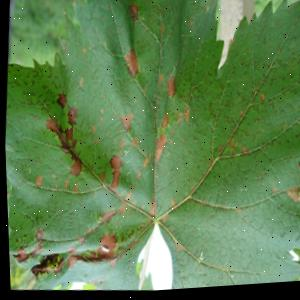Folha: (0, 0, 300, 300)
Fungo: (40, 92, 87, 180), (62, 232, 124, 274), (28, 249, 66, 281), (106, 151, 123, 201), (114, 108, 136, 137), (151, 134, 168, 170), (124, 50, 141, 82), (9, 246, 30, 264), (284, 189, 300, 211), (120, 190, 131, 222), (98, 209, 117, 227), (127, 4, 140, 28), (68, 157, 82, 179), (165, 77, 177, 102), (86, 275, 103, 292), (138, 151, 150, 174), (227, 138, 238, 163), (224, 118, 236, 136), (146, 199, 156, 220), (29, 241, 41, 258), (56, 93, 67, 111), (241, 147, 250, 167), (160, 114, 170, 131), (33, 229, 44, 244), (233, 206, 242, 223), (167, 195, 176, 212), (70, 183, 80, 196), (133, 172, 141, 188), (34, 175, 43, 189), (87, 124, 97, 136), (60, 180, 68, 194), (92, 136, 100, 150), (156, 75, 166, 85), (237, 111, 245, 123), (159, 25, 165, 40), (78, 78, 84, 91), (215, 148, 223, 156), (90, 192, 97, 200), (187, 21, 194, 29), (82, 48, 87, 58), (259, 98, 265, 106), (99, 110, 104, 116), (98, 117, 103, 123), (61, 46, 66, 52)
